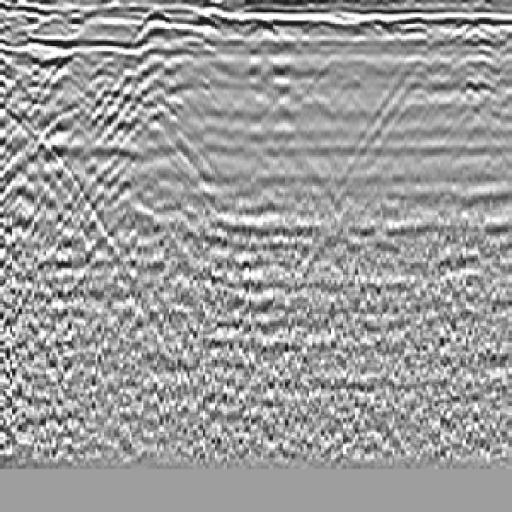non-metallic: (123, 7, 204, 62)
